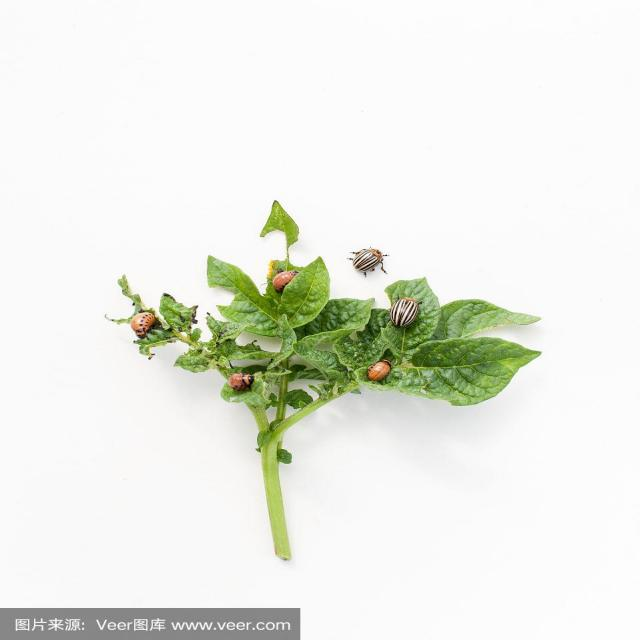ShuCaiHuaBanChong-Grown-: (345, 241, 399, 283), (385, 293, 431, 339)
ShuCaiHuaBanChong-Larva-: (121, 308, 169, 338), (364, 353, 401, 385), (266, 267, 297, 295), (227, 369, 261, 392)
